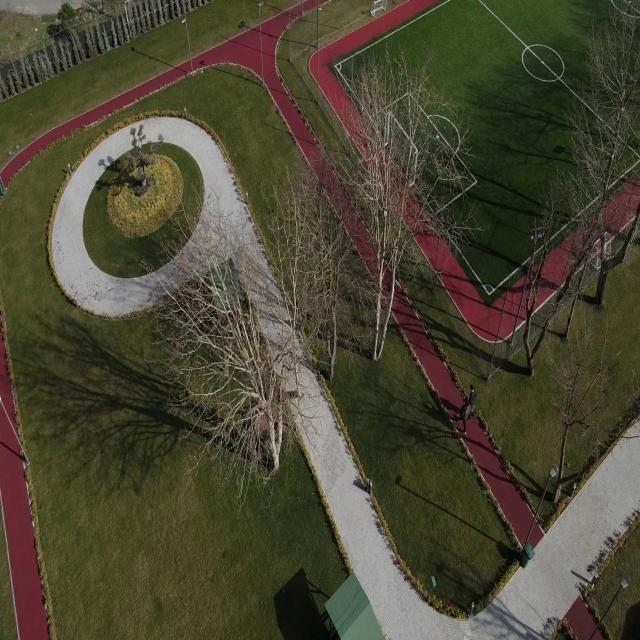p3rson: (456, 395, 472, 435), (467, 383, 477, 419)
